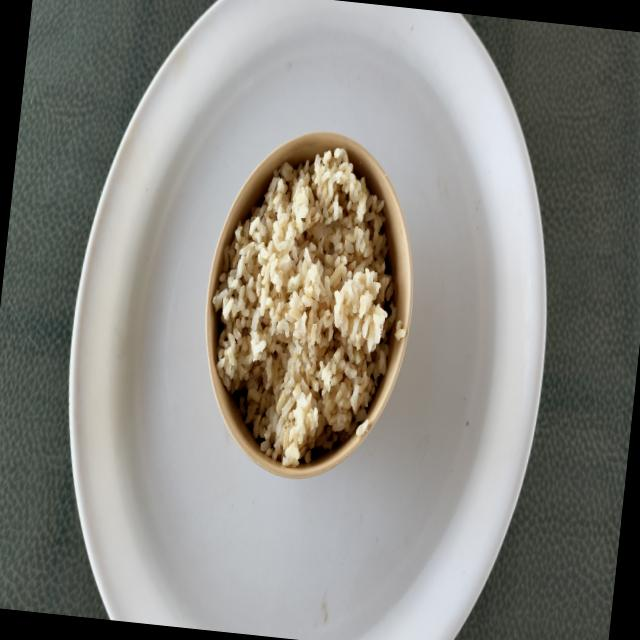brown-rice: (213, 147, 395, 468)
